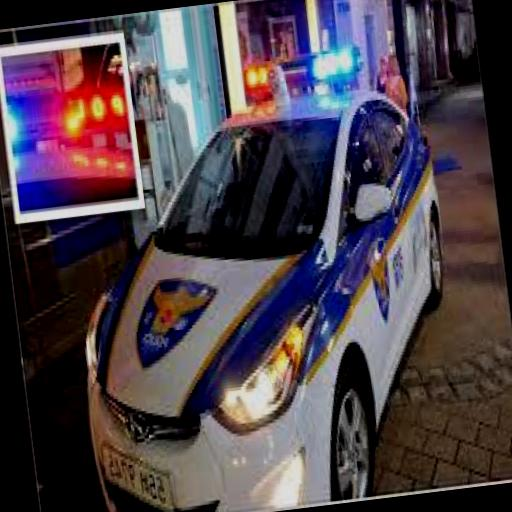Ambulance: (47, 35, 476, 512)
